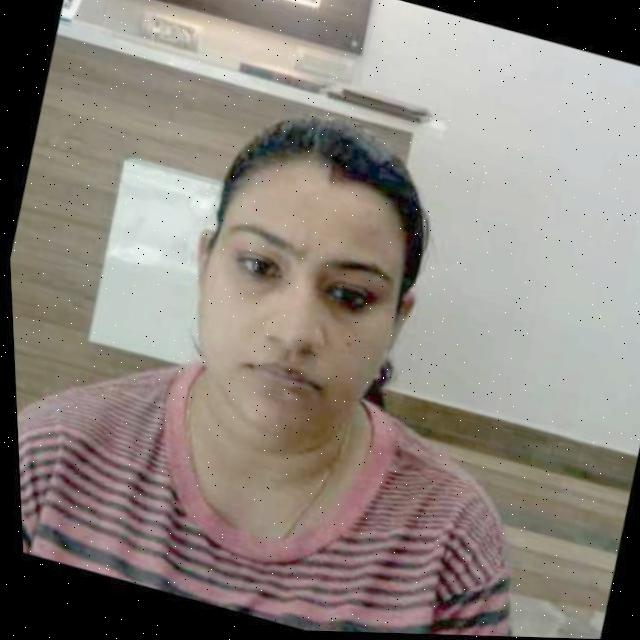puffy_eyes: (231, 268, 281, 301)
